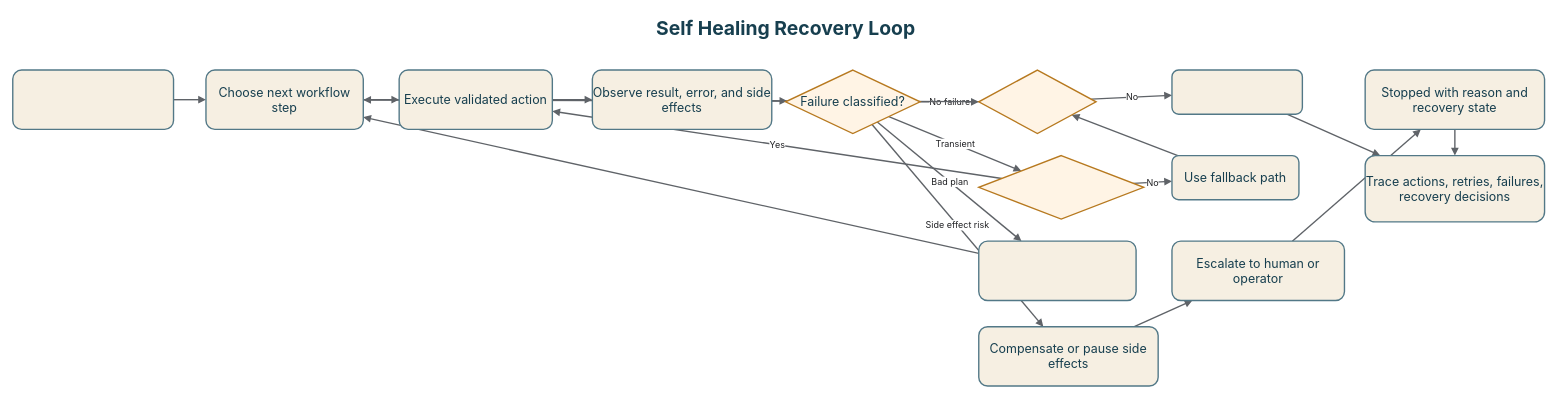
Some shapes in this 1557 by 398 pixel diagram are drawn without their labels. Here are the shapes that lost their labels. From the top down, the box of each, then its label:
(12, 69, 174, 130): Goal, constraints, budgets
(978, 69, 1096, 134): More work?
(1171, 69, 1303, 115): Completed workflow
(978, 155, 1144, 219): Retry safe and budget left?
(978, 240, 1136, 301): Re-plan with new evidence
